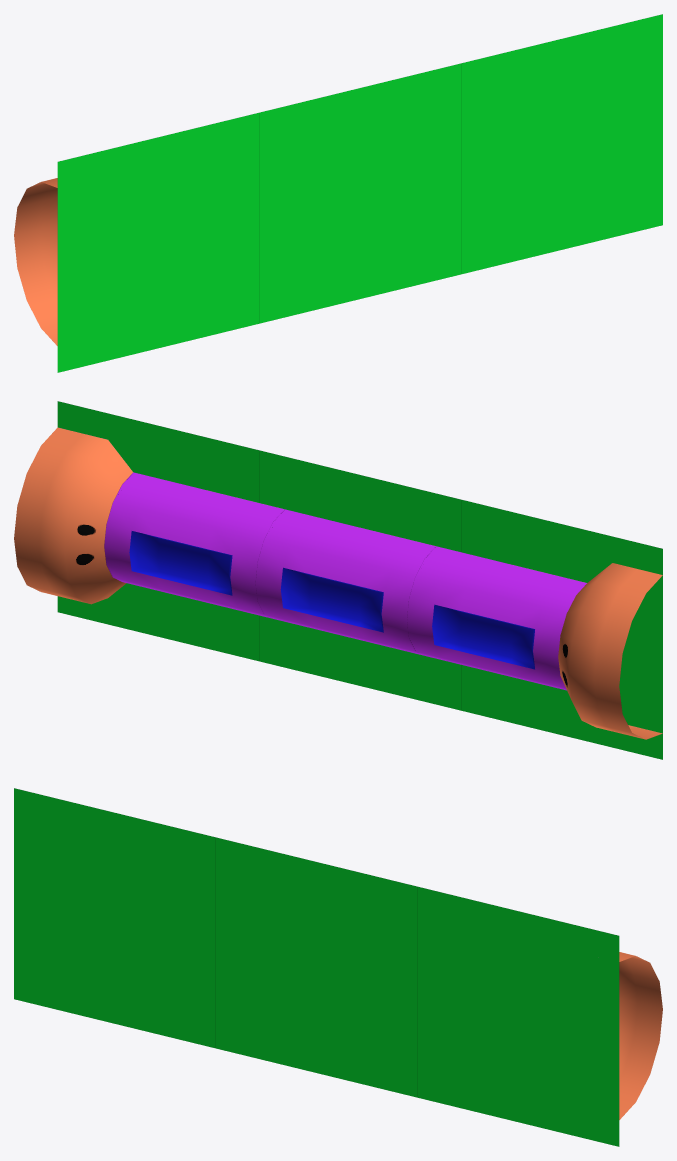
File: 1x3_Strt.fbx
3 renders of one model, top to bottom at view 1: azimuth 30°, elevation 25°; view 2: azimuth 150°, elevation 25°; view 3: azimuth 330°, elevation 25°, orthographic.
Visible parts, largest first — view 1: Panel_1x3_Straight; view 2: Panel_1x3_Straight; view 3: Panel_1x3_Straight.
Boxes of the visible parts, bbox=[...] form: Panel_1x3_Straight: bbox=[14, 14, 662, 372]; Panel_1x3_Straight: bbox=[14, 401, 662, 759]; Panel_1x3_Straight: bbox=[14, 788, 662, 1146].
Bounding box in the file's own units: 300 × 100 × 37.5.
